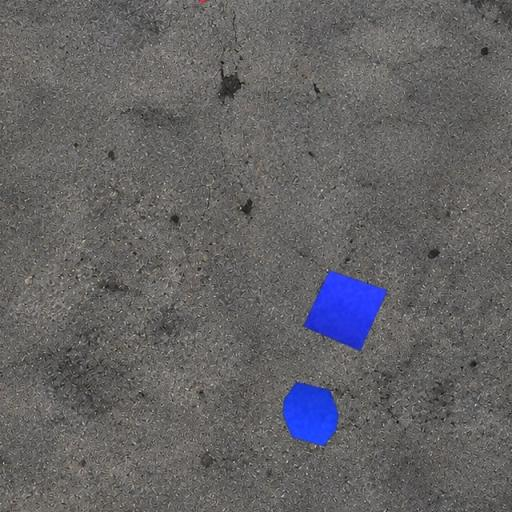BLUE_SQUARE: (302, 270, 388, 351)
